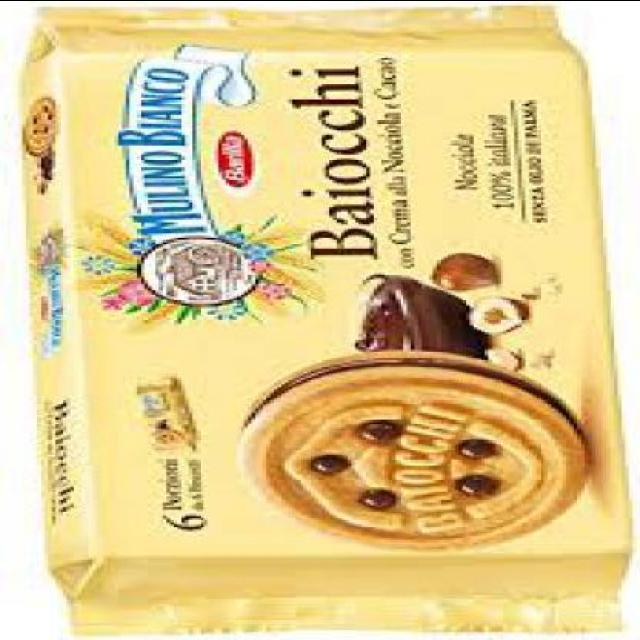Merendine: (22, 2, 636, 638)
